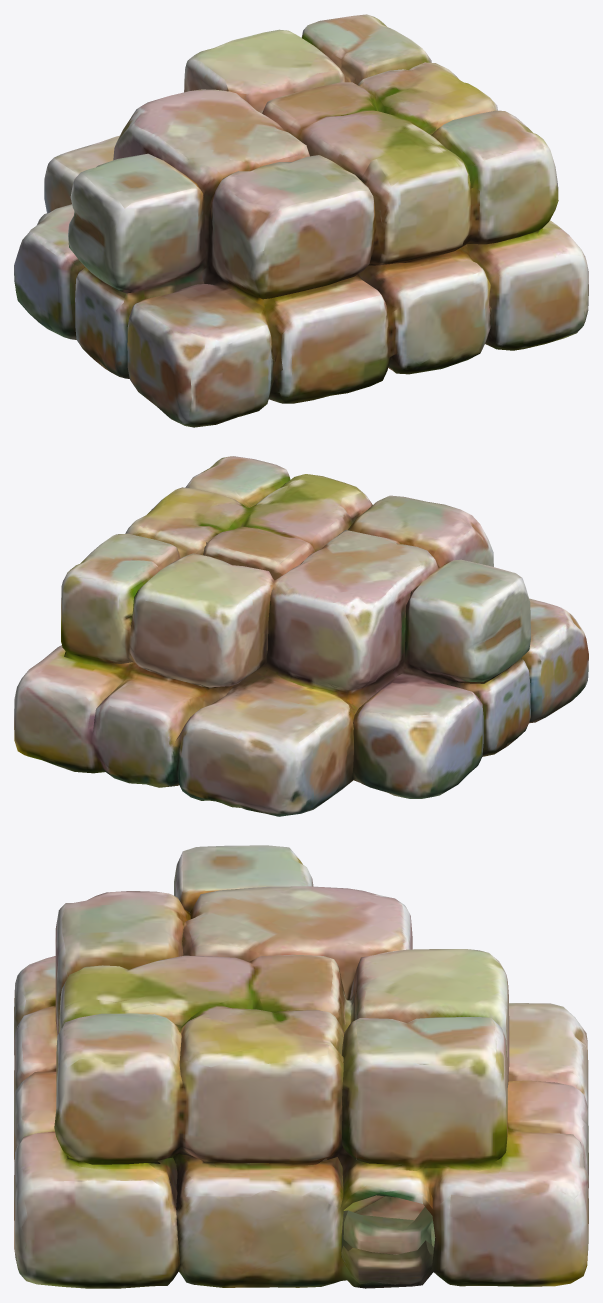
File: quarry_b.glb
3 views of the same model, one above another, from view 1: azimuth 30°, elevation 25°; view 2: azimuth 150°, elevation 25°; view 3: azimuth 270°, elevation 25° (orthographic). The views are drawn at different scales.
Parts seen in each view (by area): view 1: world; view 2: world; view 3: world.
Part boxes in pixels (x1,y1,x2,y2): world: (14, 14, 588, 427); world: (14, 456, 588, 816); world: (14, 845, 588, 1288).
Bounding box in the file's own units: 0.9895 × 0.4342 × 1.
Materials: 1 (1 with a texture image).
